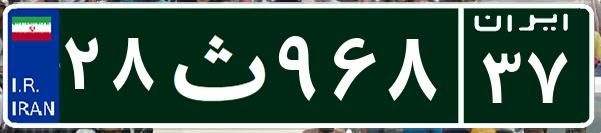2: (57, 26, 110, 107)
3: (475, 38, 525, 113)
6: (330, 28, 385, 110)
7: (525, 38, 570, 115)
8: (385, 28, 445, 110), (110, 28, 158, 105)
9: (273, 28, 330, 110)
ث: (158, 15, 273, 115)
